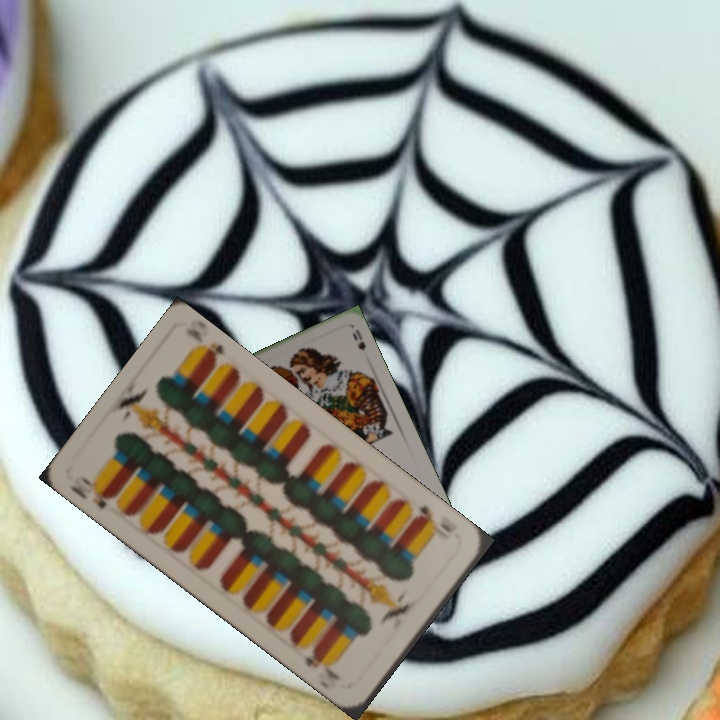E10: (65, 472, 118, 511), (410, 500, 454, 542)
